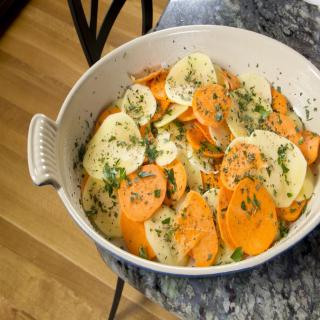Carrot: (226, 178, 278, 253), (170, 190, 218, 268), (118, 163, 168, 222), (192, 84, 230, 129)
